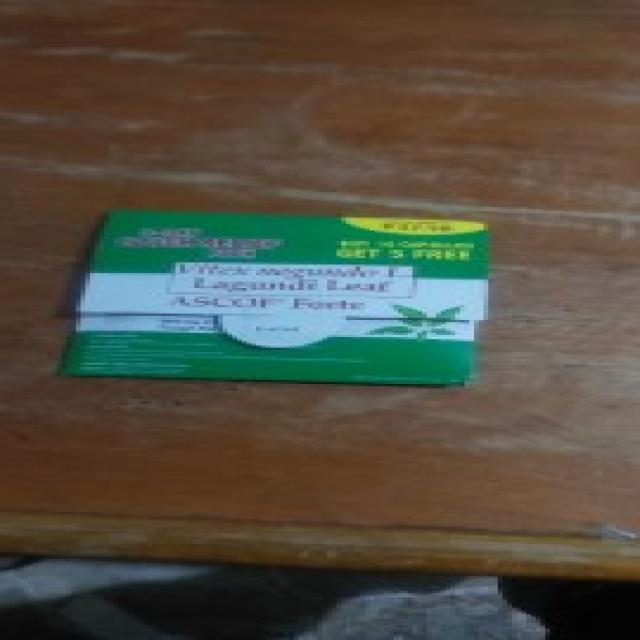Cacat: (77, 218, 486, 384)
